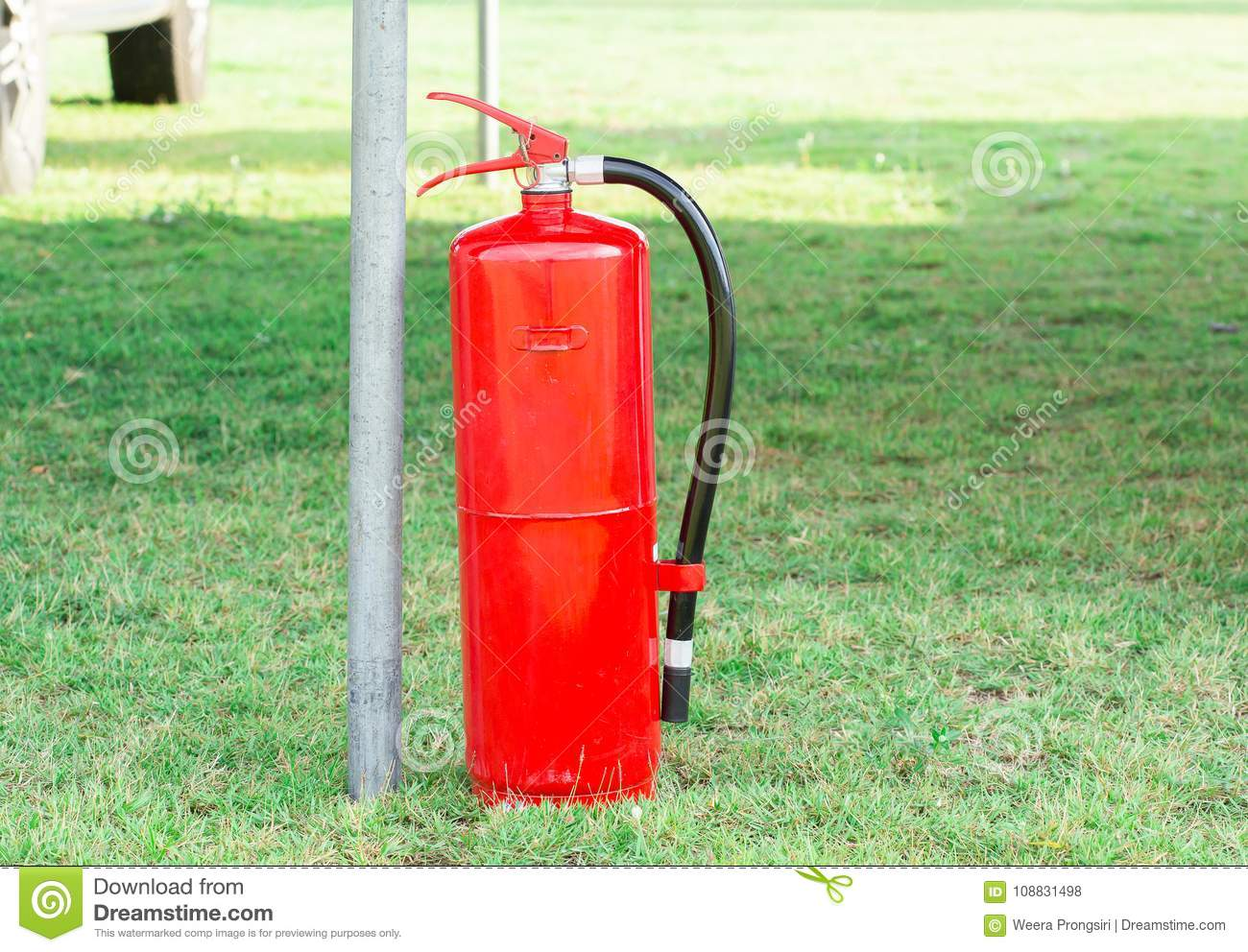fire_extinguisher: (415, 89, 736, 813)
